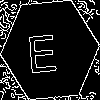E: (25, 25, 59, 73)
